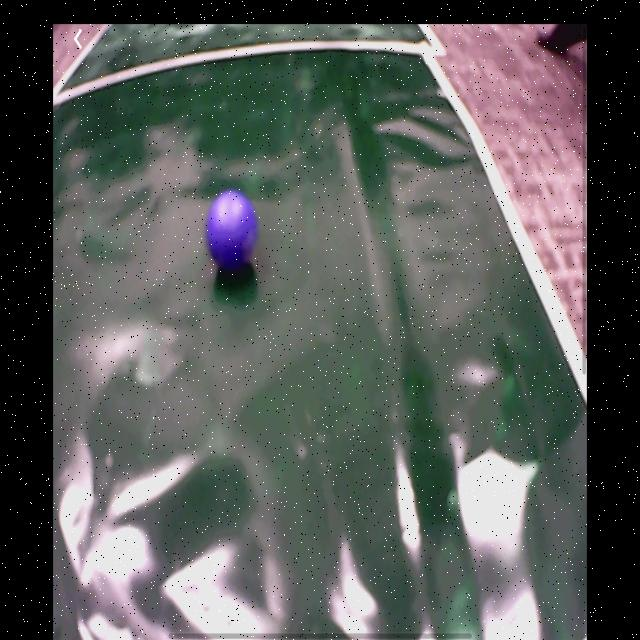ball: (206, 190, 259, 269)
